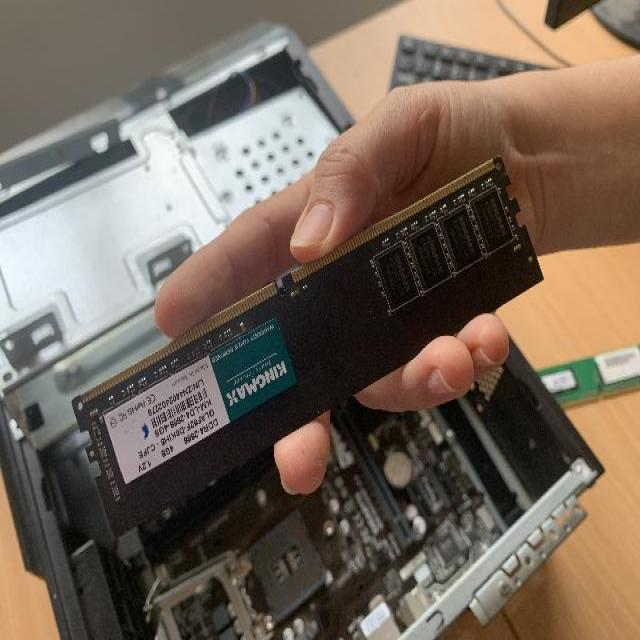RAM: (71, 152, 544, 536)
